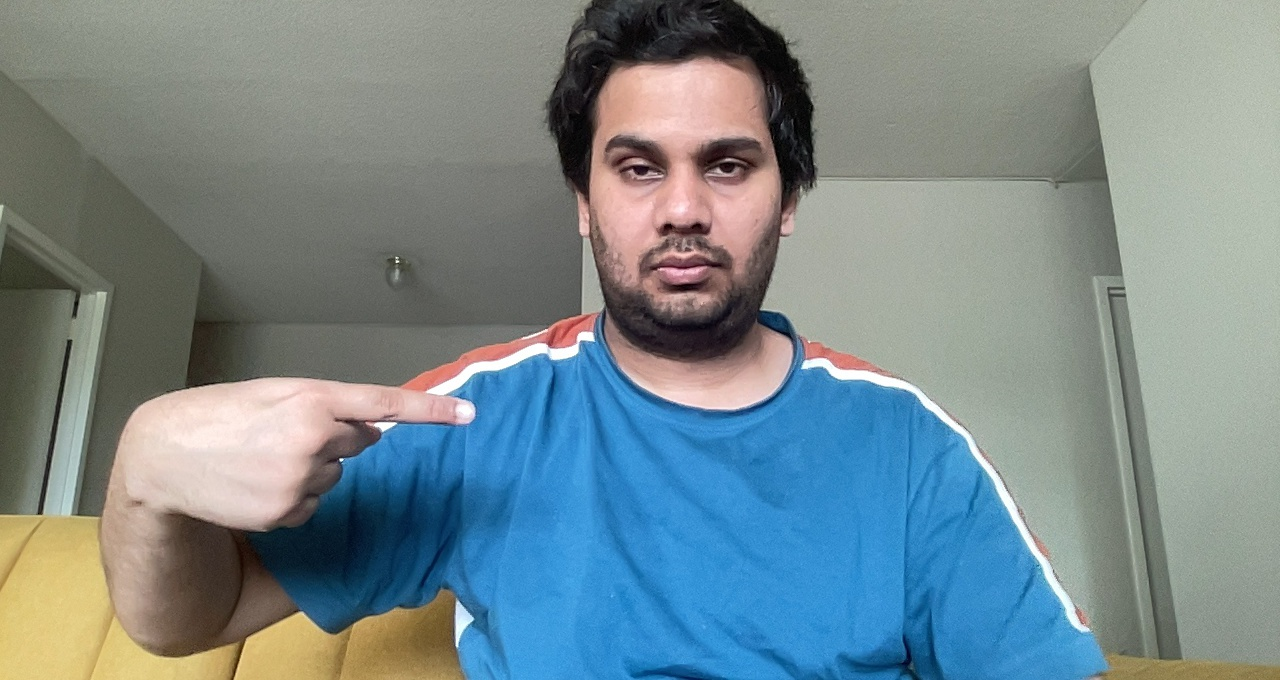fingerleft: (127, 372, 484, 539)
